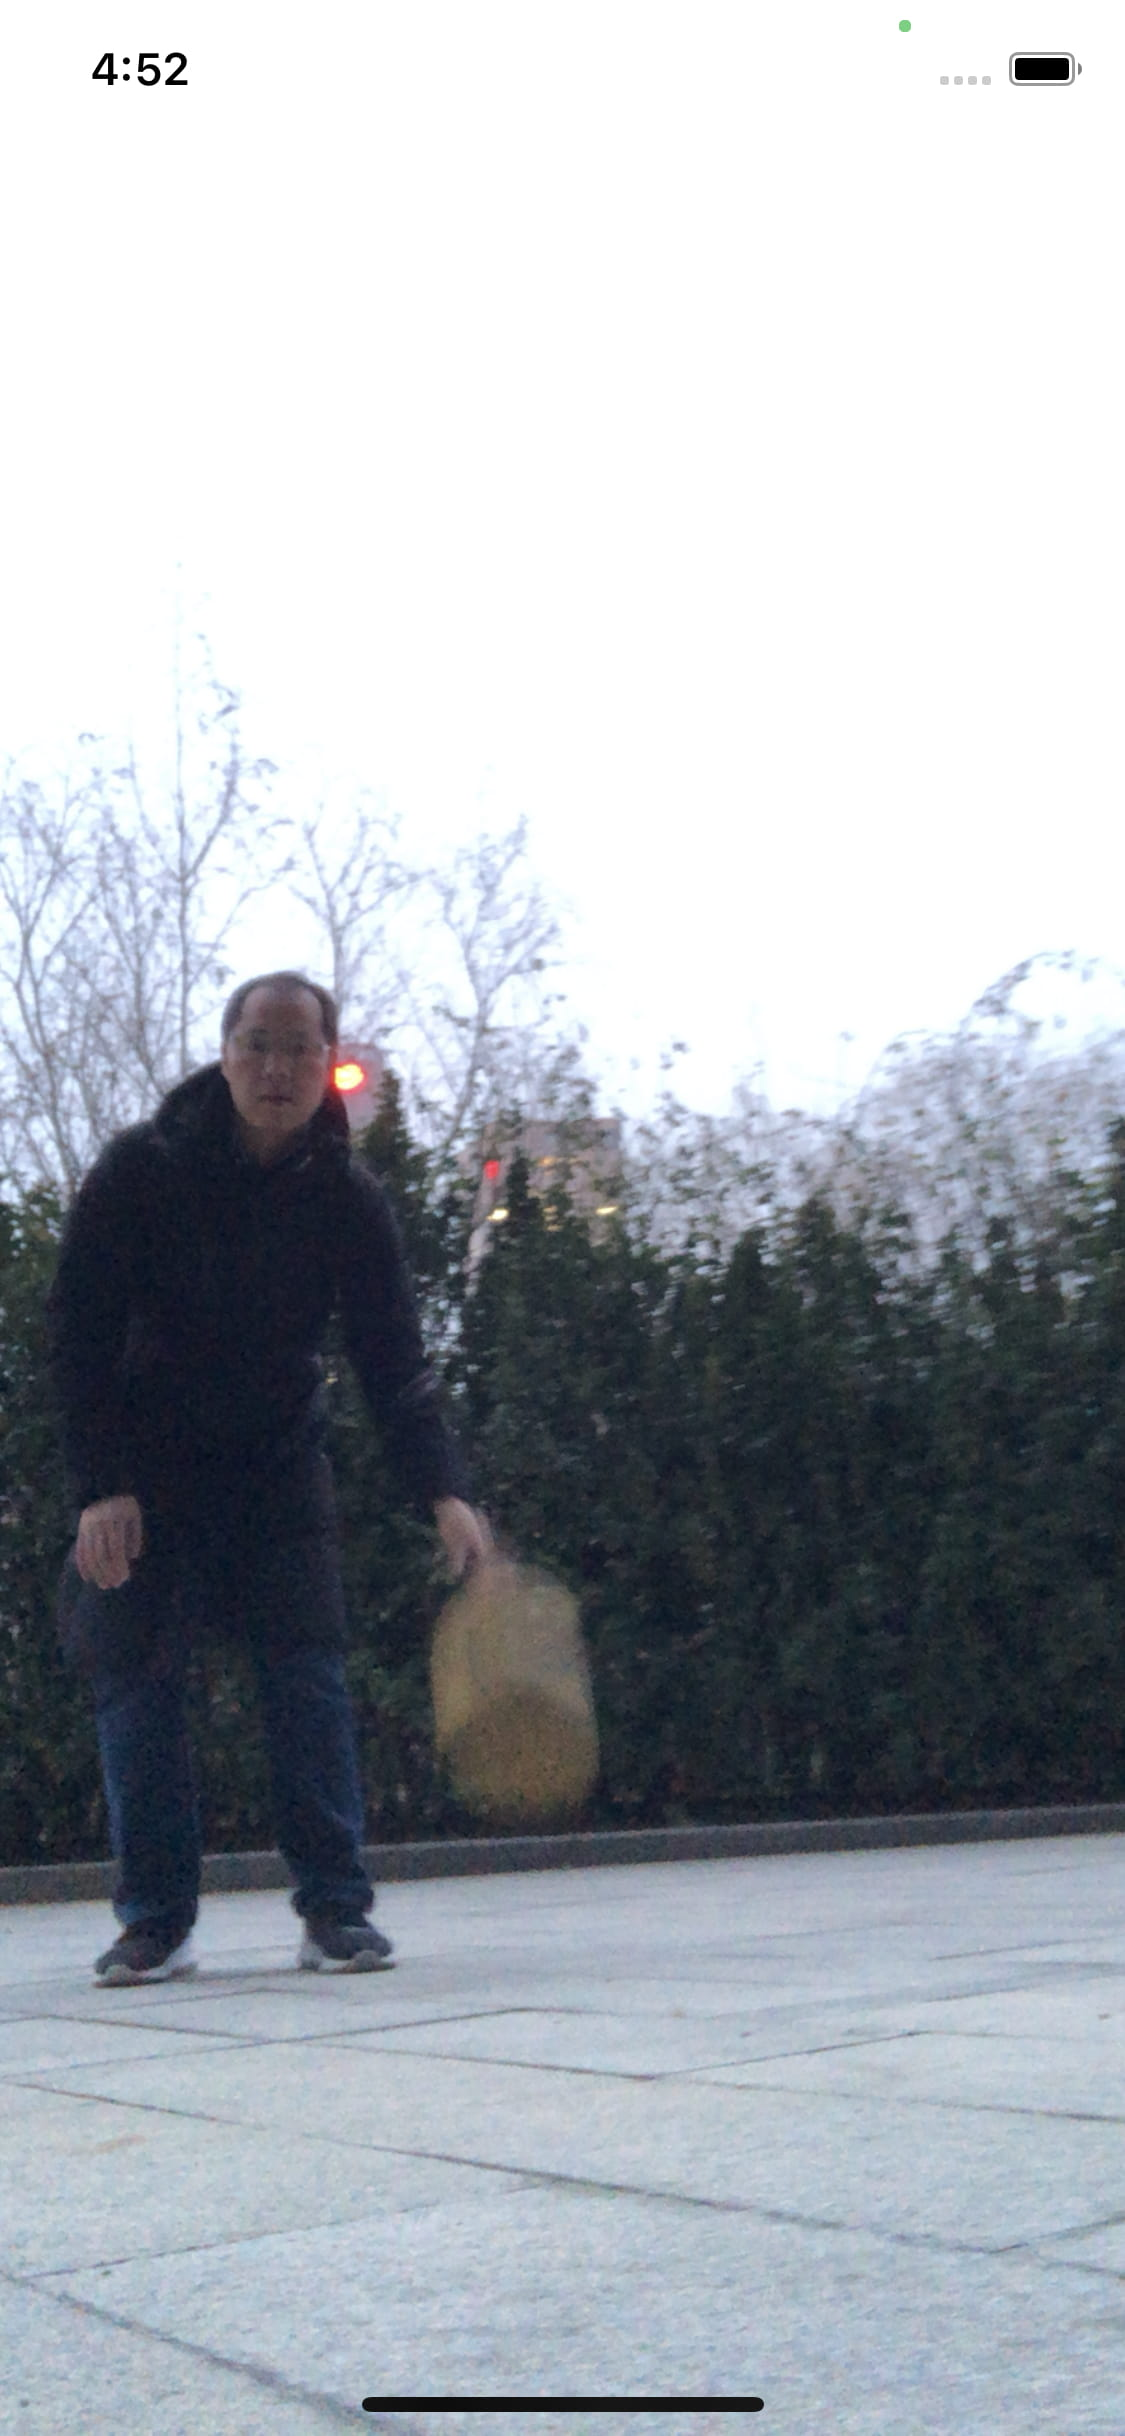ball: (430, 1662, 609, 1822)
